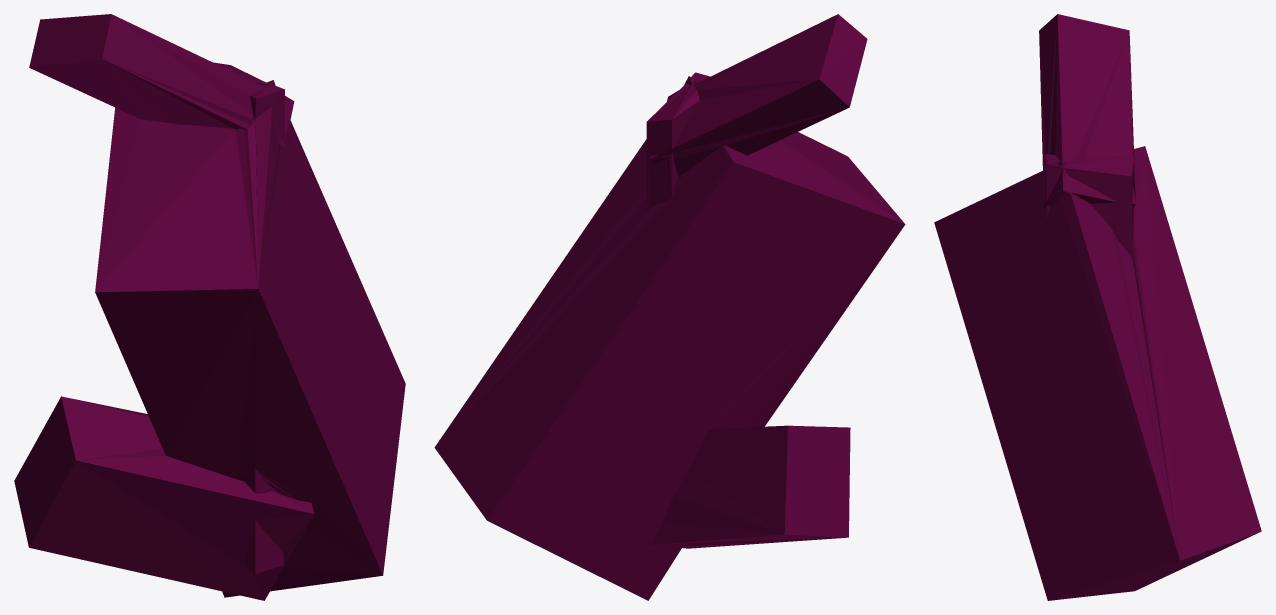
3 views of the same model, side by side, from view 1: azimuth 30°, elevation 25°; view 2: azimuth 150°, elevation 25°; view 3: azimuth 270°, elevation 25° (orthographic). The views are drawn at different scales.
Visible parts, largest first — view 1: 920_Cube.3718; view 2: 920_Cube.3718; view 3: 920_Cube.3718.
Boxes of the visible parts, x1,y1,x2,y2 form: 920_Cube.3718: [14, 14, 405, 600]; 920_Cube.3718: [434, 14, 905, 600]; 920_Cube.3718: [934, 14, 1261, 600].
Size of the model in its own units: 11.17 by 16.75 by 9.65.
